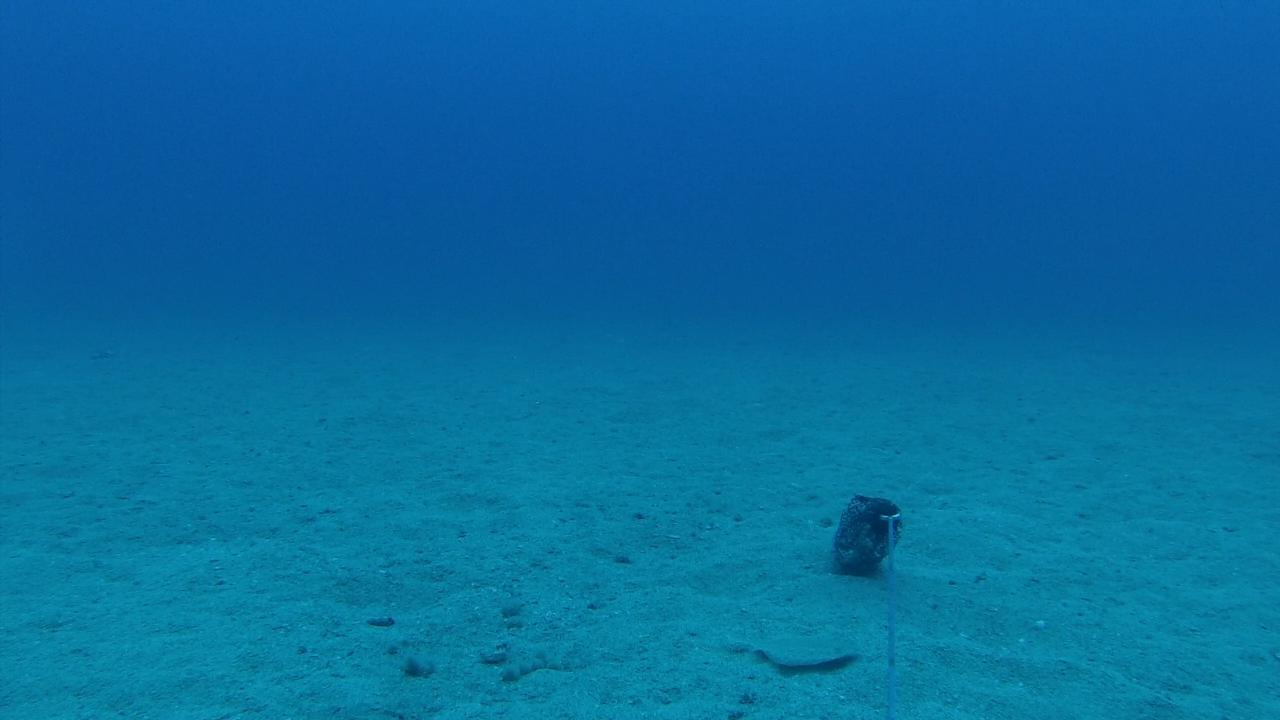bothus: (717, 622, 862, 680)
